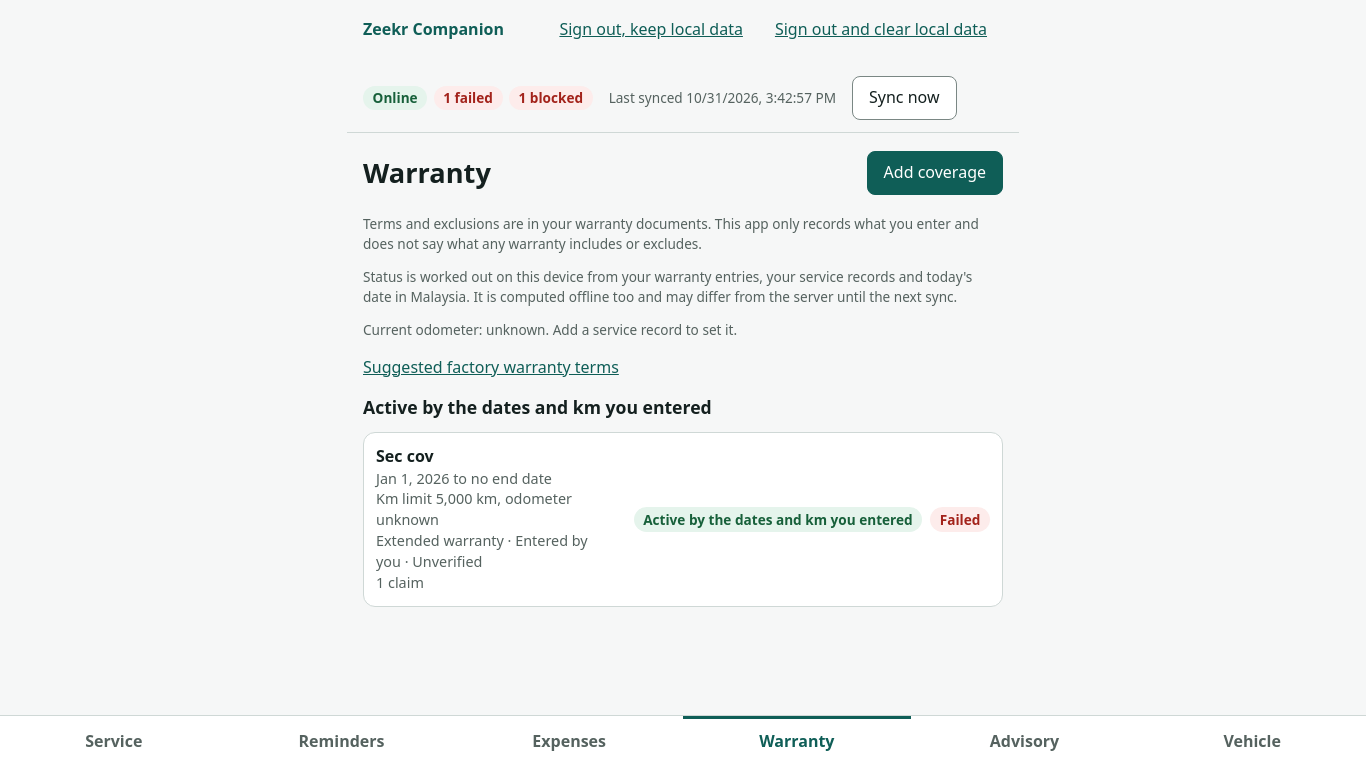
Test: SEC-W3 / SEC-W4: no silent loss of queued claims › SEC-W4: the clear-local-data warning counts blocked claim writes
This screenshot has width=1366, height=768.
Click the button "Sign out and clear local data": (881, 30) [759,8,1003,52]
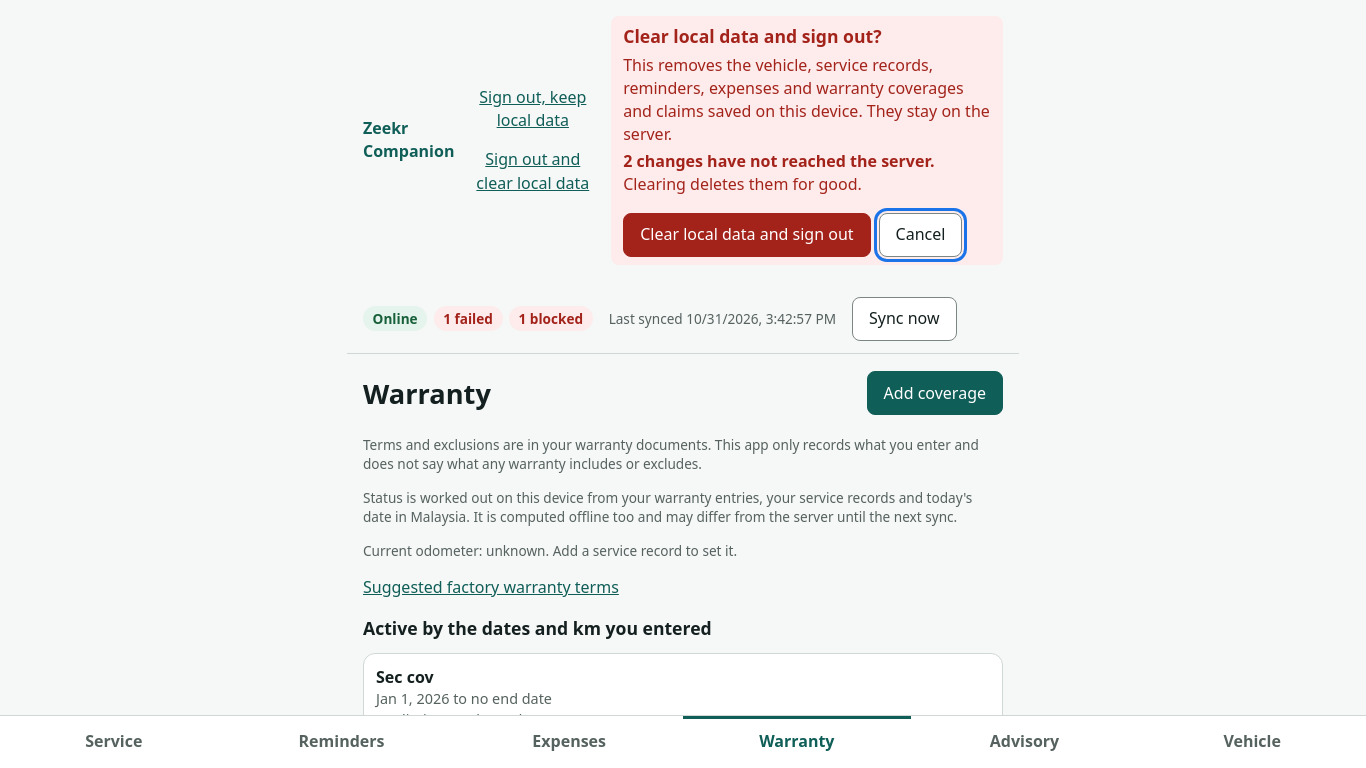
Result: the dialog shows "2 changes have not reached the server" at [611,16,1003,265]
